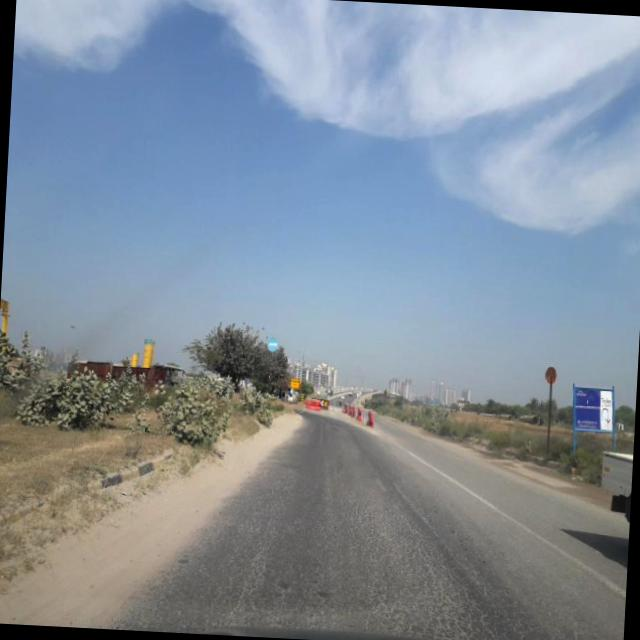crack: (179, 446, 610, 640)
